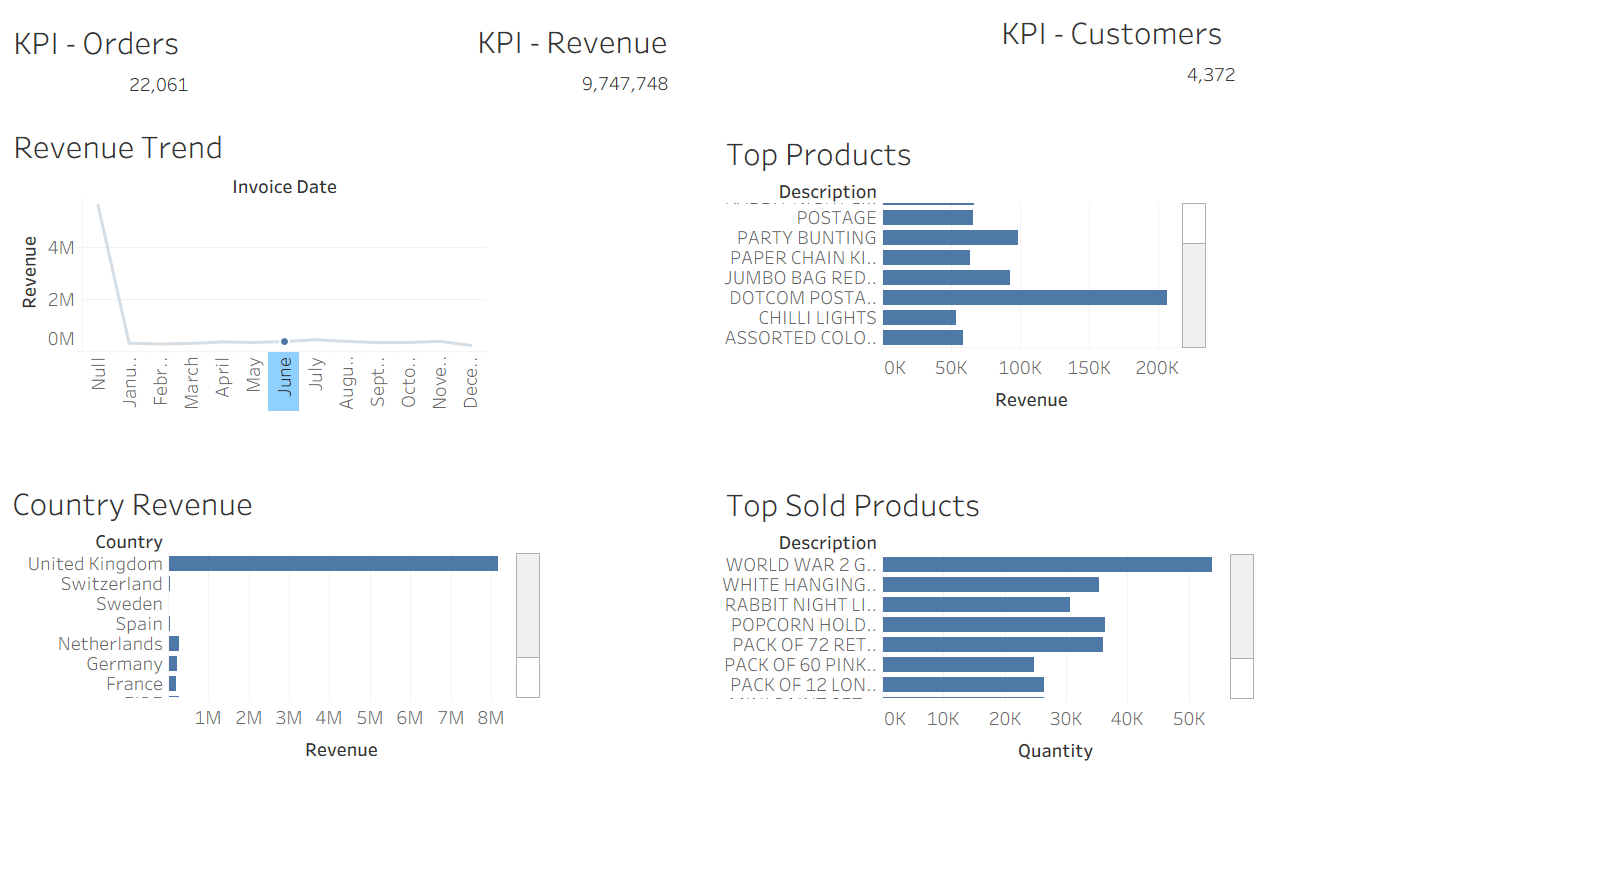

The page's visual inventory and layout, read from the dashboard file:
{"tool":"tableau","page":{"name":"task1-FUTURE_DS_01","canvas":[1000,1000],"units":"permille","ordinal":0},"visuals":[{"type":"worksheet","title":"KPI - Customers","mark":"Automatic","box":[624.3,5.7,152.2,219.8]},{"type":"worksheet","title":"KPI - Revenue","mark":"Automatic","box":[296.2,16,125.2,202.7]},{"type":"worksheet","title":"KPI - Orders","mark":"Automatic","box":[5.6,17.1,115.2,181.1]},{"type":"worksheet","title":"Revenue Trend","mark":"Automatic","rows":["Calculation_0628107431165952"],"cols":["InvoiceDate"],"box":[5.3,180,298.9,288.2]},{"type":"worksheet","title":"Top Products","mark":"Automatic","rows":["Description"],"cols":["Calculation_0628107431165952"],"box":[452,214.1,303.4,262]},{"type":"worksheet","title":"Country Revenue","mark":"Automatic","rows":["Country"],"cols":["Calculation_0628107431165952"],"box":[5,542.1,333.1,332.6]},{"type":"worksheet","title":"Top Sold Products","mark":"Automatic","rows":["Description"],"cols":["Quantity"],"box":[452.1,543.3,333.1,332.6]}]}

Visuals, with their boxes on the dashboard's canvas, which has no fixed pixel size, in thousandths of its width and height (x1, y1, x2, y2). These are canvas units, not pixel positions in the 1597x878 screenshot, which may show the page scaled, cropped or inside an application window:
"KPI - Customers" worksheet: l=624, t=6, r=776, b=226
"KPI - Revenue" worksheet: l=296, t=16, r=421, b=219
"KPI - Orders" worksheet: l=6, t=17, r=121, b=198
"Revenue Trend" worksheet: l=5, t=180, r=304, b=468
"Top Products" worksheet: l=452, t=214, r=755, b=476
"Country Revenue" worksheet: l=5, t=542, r=338, b=875
"Top Sold Products" worksheet: l=452, t=543, r=785, b=876
